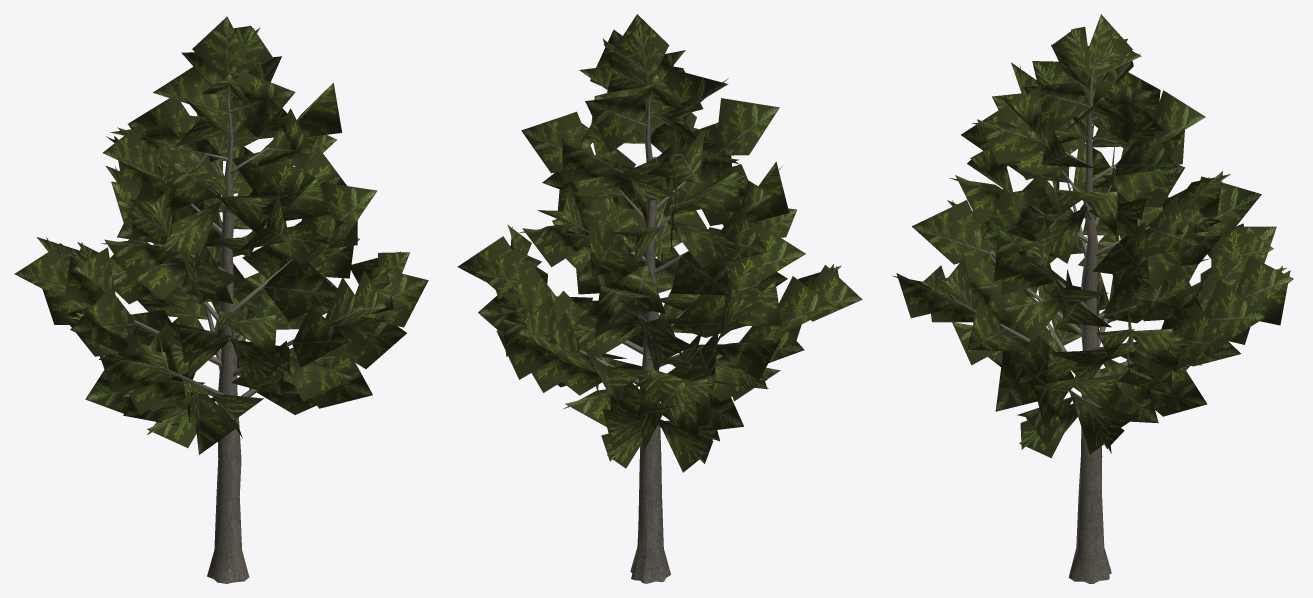
3 views of the same model, side by side, from view 1: azimuth 30°, elevation 25°; view 2: azimuth 150°, elevation 25°; view 3: azimuth 270°, elevation 25° (orthographic).
Parts seen in each view (by area): view 1: um_t1_pl025_model_lod0Shape; view 2: um_t1_pl025_model_lod0Shape; view 3: um_t1_pl025_model_lod0Shape.
Part boxes in pixels (<box>): um_t1_pl025_model_lod0Shape: <box>14,16,428,583</box>; um_t1_pl025_model_lod0Shape: <box>457,14,862,583</box>; um_t1_pl025_model_lod0Shape: <box>892,14,1293,583</box>.
Bounding box in the file's own units: 6.78 × 10.15 × 6.65.
Materials: 2 (2 with a texture image).
